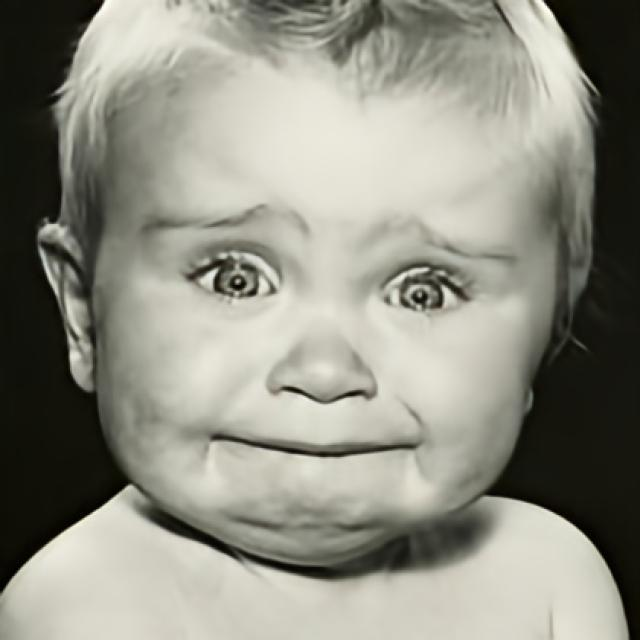fear: (108, 49, 540, 538)
